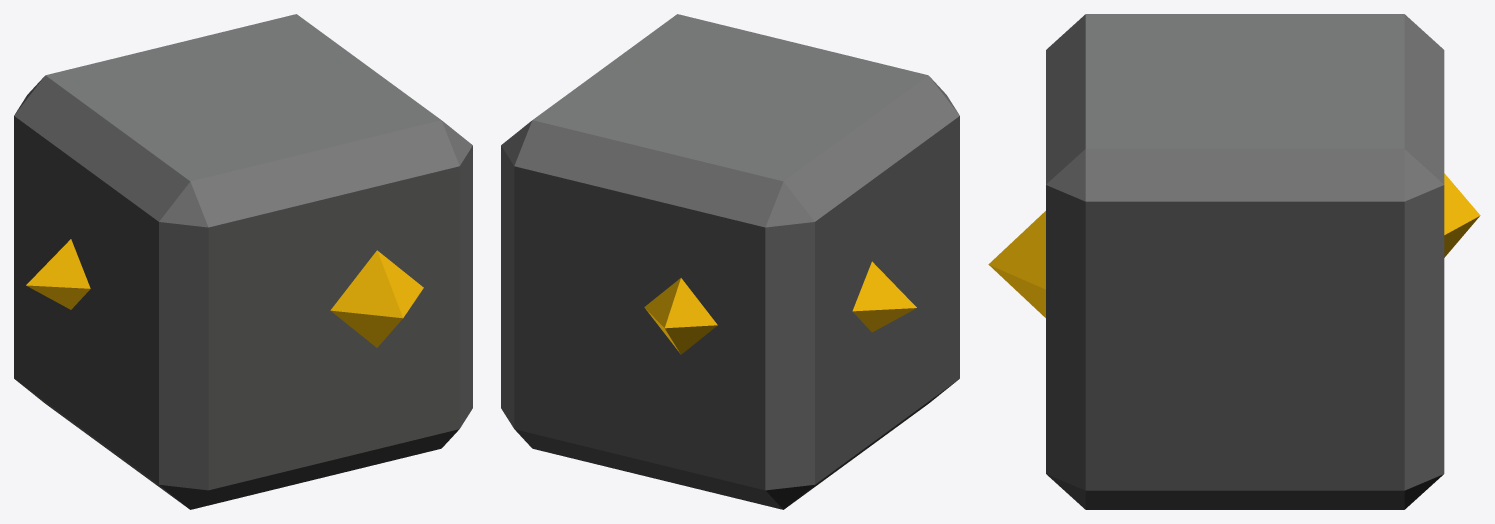
File: m_kub_ore_miniCube.FBX
The picture shows the model from 3 angles, left to right: view 1: azimuth 30°, elevation 25°; view 2: azimuth 150°, elevation 25°; view 3: azimuth 270°, elevation 25°; orthographic projection. The views are drawn at different scales.
Visible parts, largest first — view 1: m_kub_ore_miniCube; view 2: m_kub_ore_miniCube; view 3: m_kub_ore_miniCube.
Part boxes in pixels (<box>): m_kub_ore_miniCube: <box>14,14,472,509</box>; m_kub_ore_miniCube: <box>501,14,959,509</box>; m_kub_ore_miniCube: <box>988,14,1480,509</box>.
Bounding box in the file's own units: 1.14 × 1 × 1.23.
